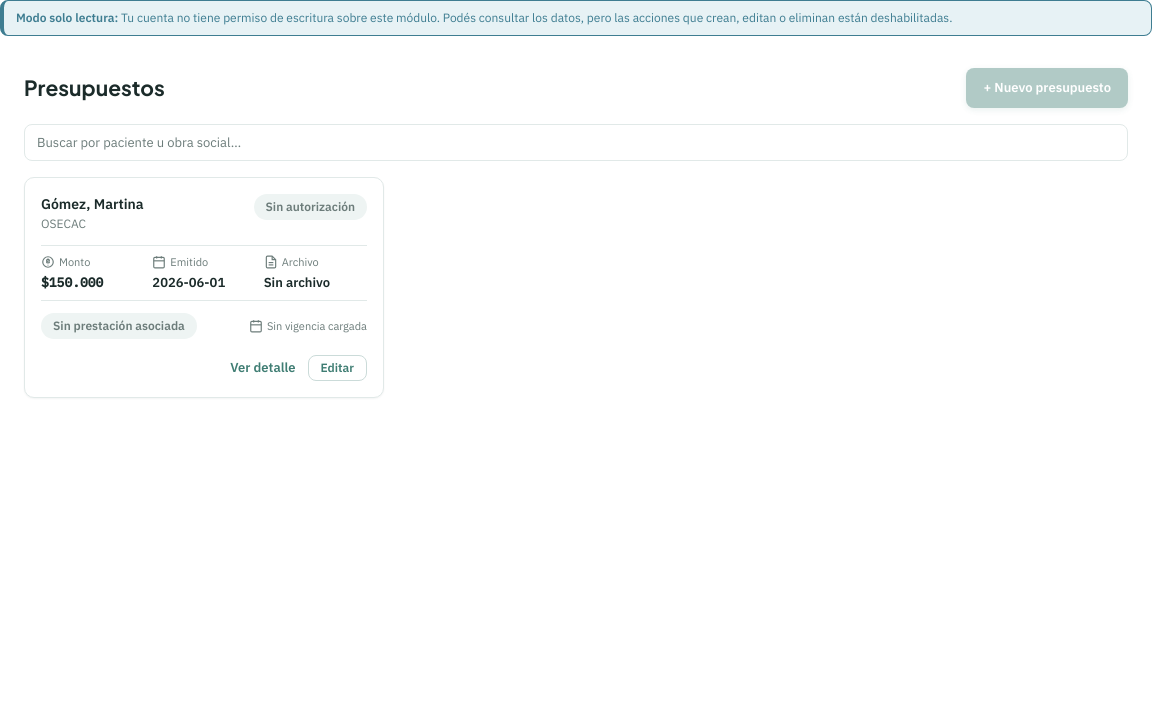
it: PresupuestosPage — gateo de escritura › sin permiso de escritura: muestra el aviso también en el detalle
Note: "Editar" queda deshabilitado por el gateo — se navega al detalle por la tarjeta, no por el botón.
Step 1. Click the text "Gómez, Martina" → (92, 204), box [41,194,144,215]
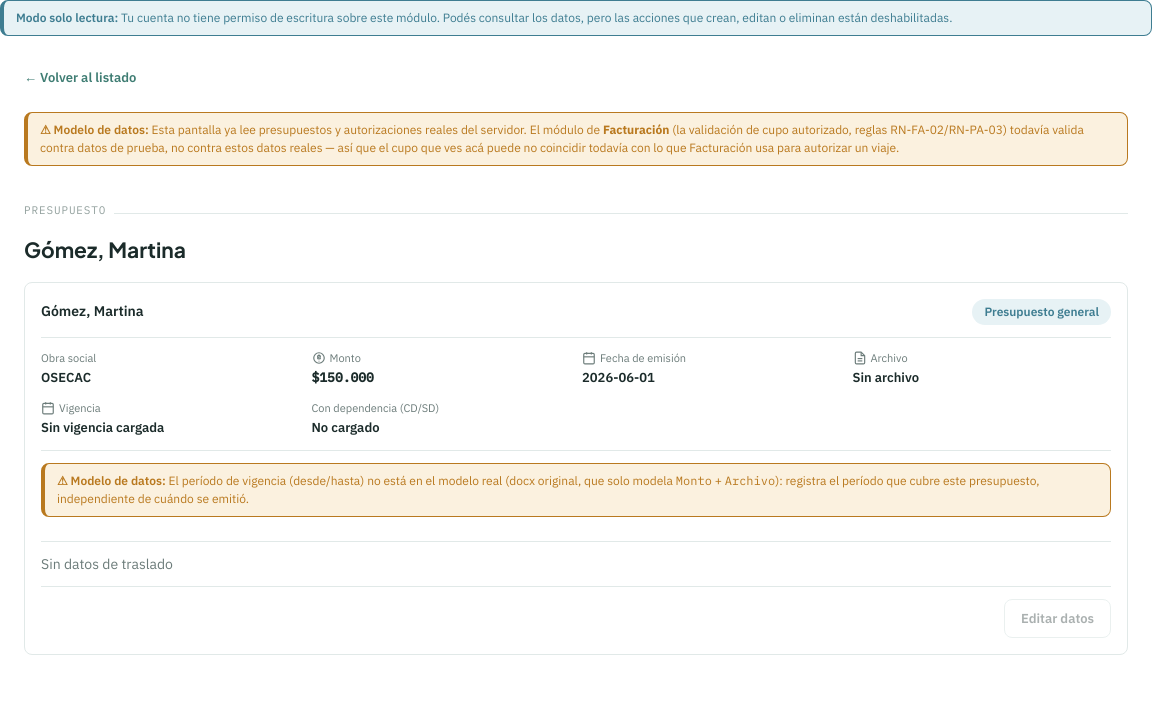
expect the heading "Gómez, Martina" is shown: met, box [24,234,186,266]
